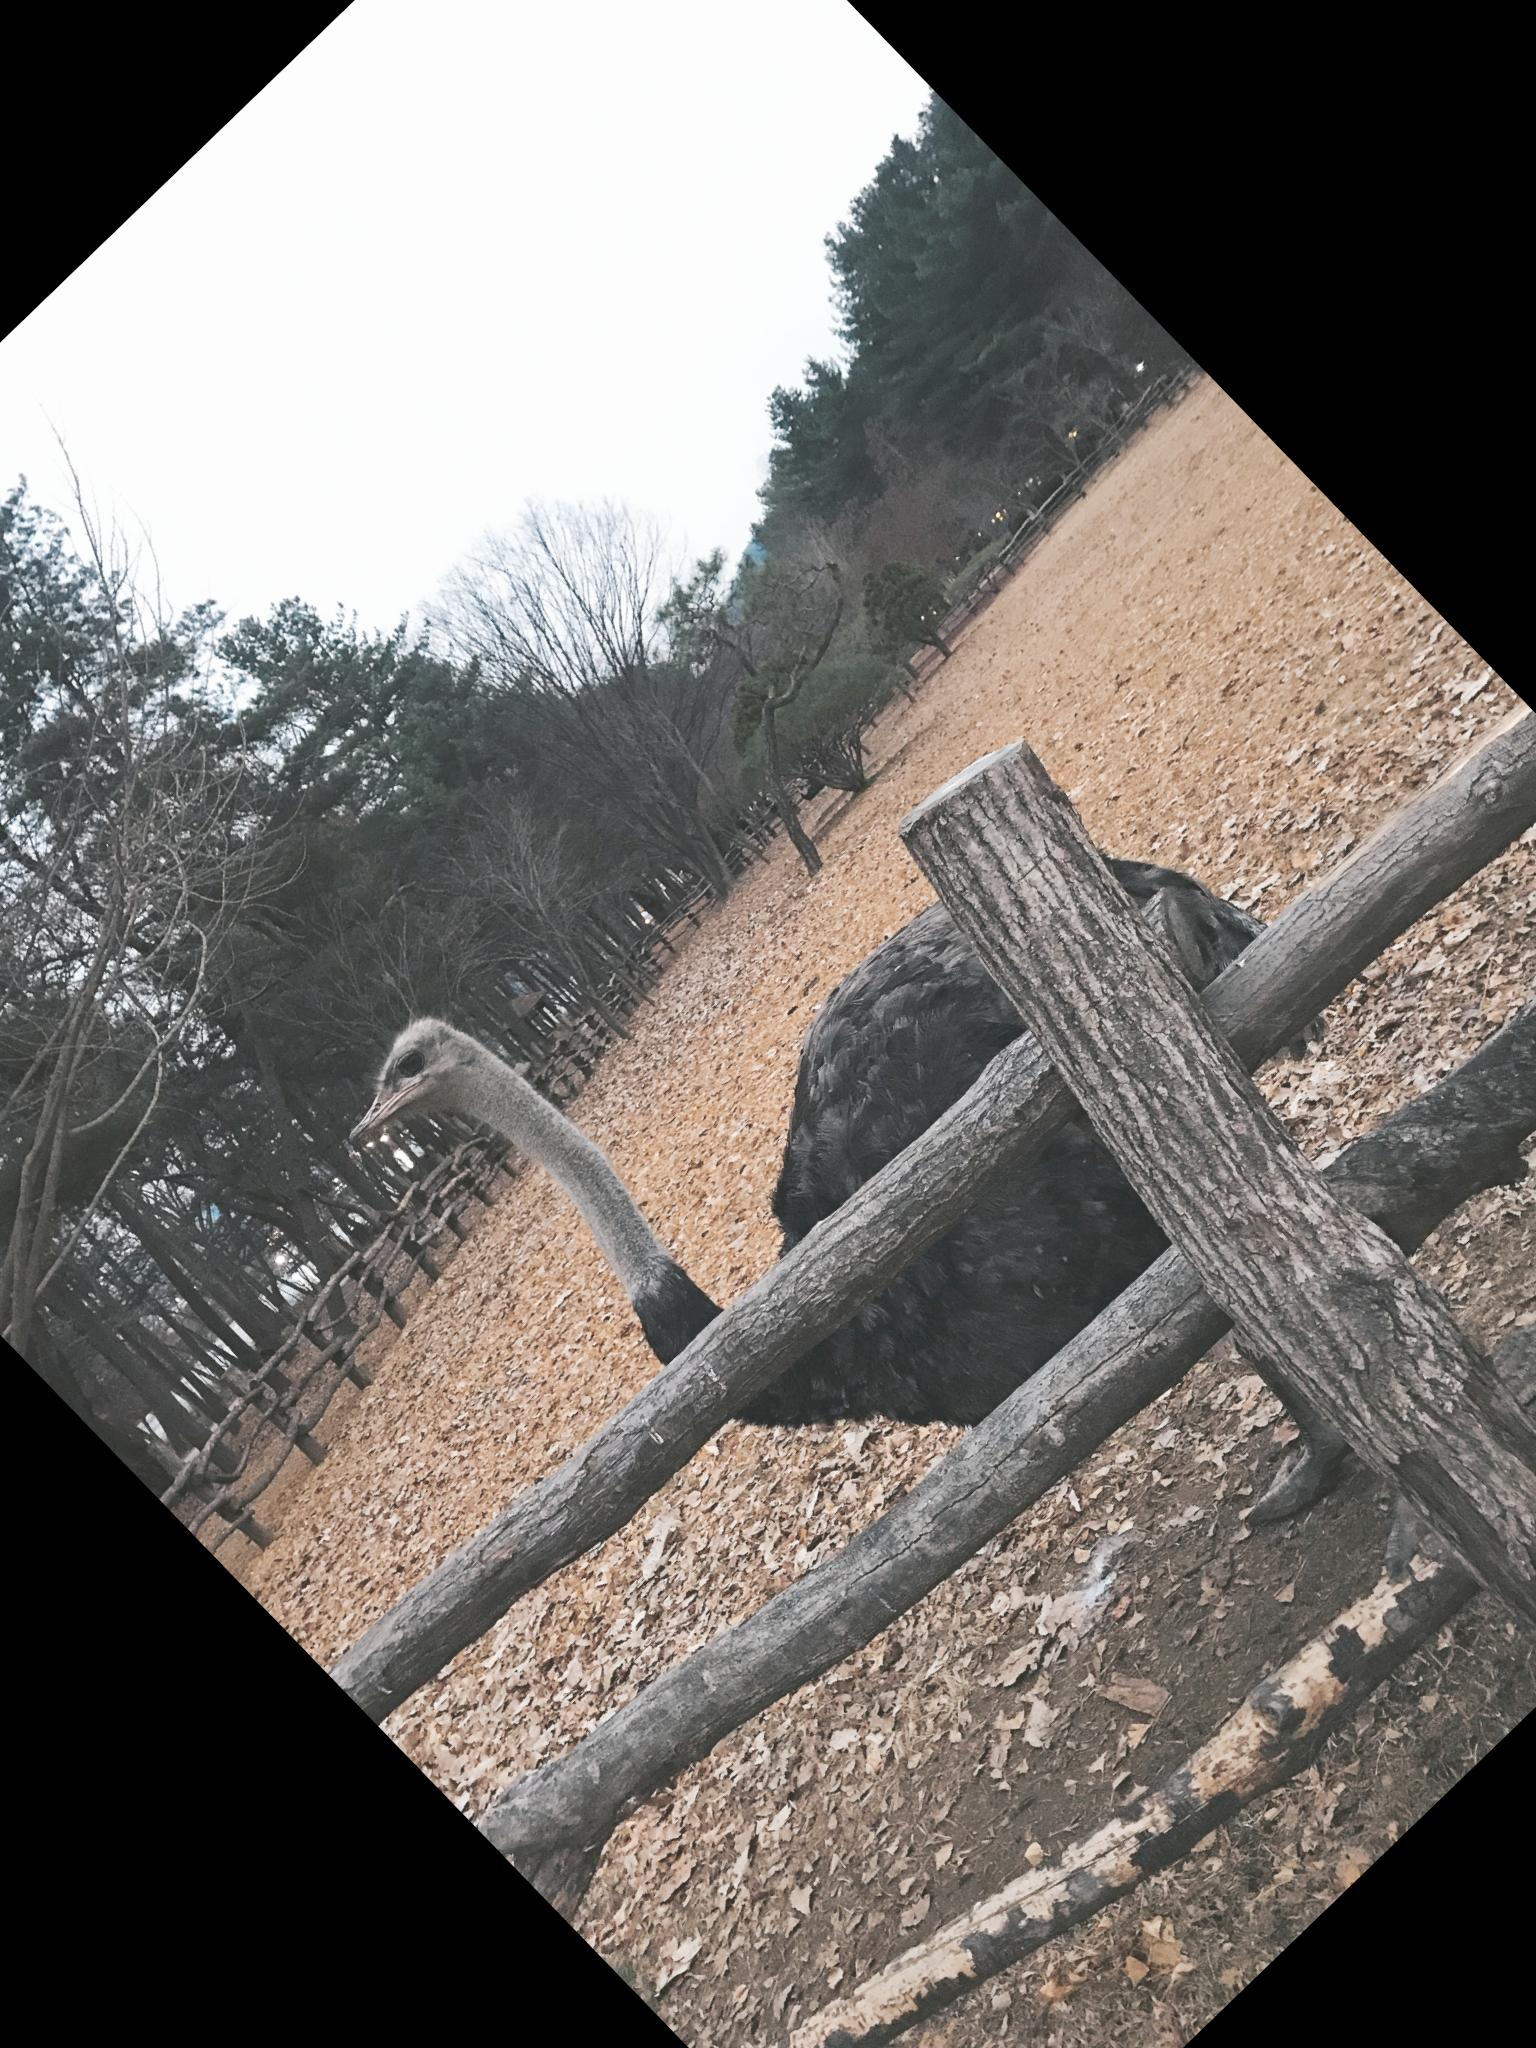ostrich: (286, 514, 1536, 1809)
